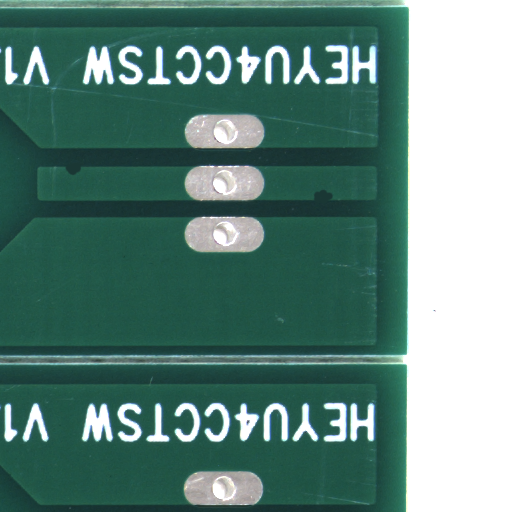Mouse_bite: (324, 195, 343, 206), (74, 171, 88, 181)
